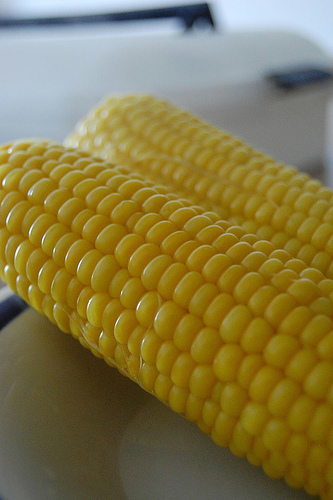corn: (0, 138, 331, 496), (61, 92, 330, 251)
